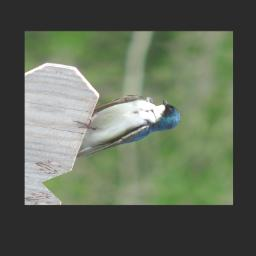Swallow: (61, 86, 188, 173)
